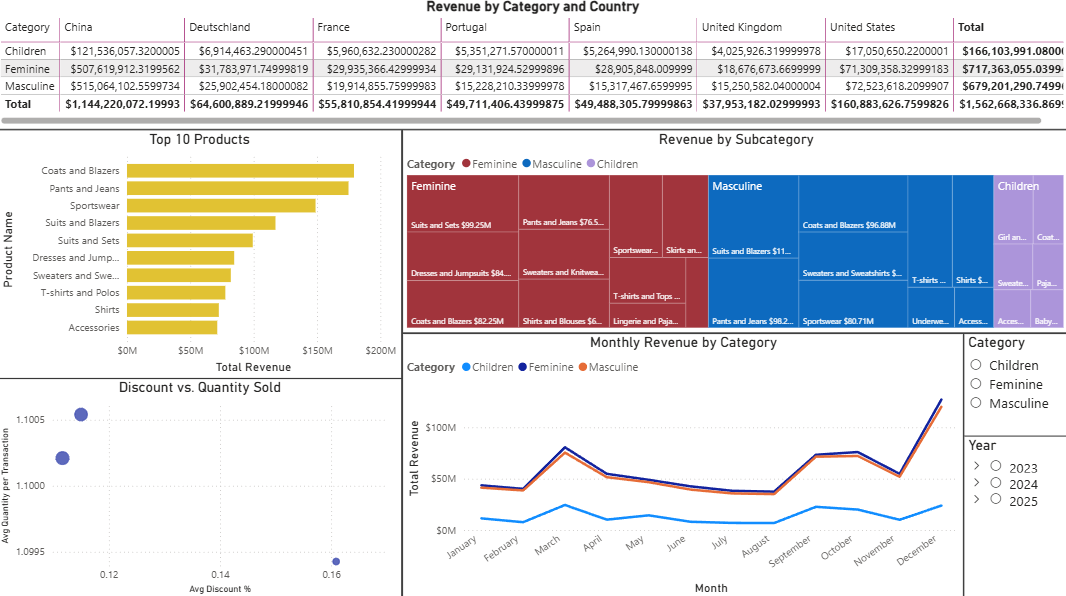

This screenshot's page, from the dashboard's own definition file:
{"tool":"powerbi","page":{"name":"Product Performance","canvas":[1280,720],"ordinal":2},"visuals":[{"type":"pivotTable","title":"Revenue by Category and Country","fields":{"Rows":["products.Category"],"Columns":["customers.Country"],"Values":["customers.Total Revenue"]},"box":[0,0,1280.5,158.4],"z":0},{"type":"barChart","title":"Top 10 Products","fields":{"Category":["products.Sub Category"],"Y":["customers.Total Revenue"]},"box":[0,158.4,484.4,297.4],"z":1},{"type":"treemap","title":"Revenue by Subcategory","fields":{"Group":["products.Category"],"Details":["products.Product Name"],"Values":["customers.Total Revenue"]},"box":[484.4,158.4,796.1,242.9],"z":2},{"type":"scatterChart","title":"Discount vs. Quantity Sold","fields":{"X":["transactions.Avg Discount %"],"Y":["transactions.Avg Quantity per Transaction"],"Size":["customers.Total Revenue"],"Category":["products.Category"]},"box":[0,455.2,485.1,264.2],"z":3},{"type":"listSlicer","fields":{"Values":["products.Category"]},"box":[1155.2,401.5,125.4,217.9],"z":4},{"type":"listSlicer","fields":{"Values":["transactions.Date.Variation.Date Hierarchy.Year","transactions.Date.Variation.Date Hierarchy.Quarter","transactions.Date.Variation.Date Hierarchy.Month","transactions.Date.Variation.Date Hierarchy.Day"]},"box":[1155.2,523.9,125.4,195.5],"z":5},{"type":"lineChart","title":"Monthly Revenue by Category","fields":{"Category":["transactions.Date.Variation.Date Hierarchy.Month"],"Y":["customers.Total Revenue"],"Series":["products.Category"]},"box":[485.1,401.5,670.1,317.9],"z":6}]}

Visuals, with their boxes in screenshot pixels (x1, y1, x2, y2), scaled from the page's 1280x720 canvas onto the 1066x596 screenshot:
"Revenue by Category and Country" pivotTable: (0,0,1065,131)
"Top 10 Products" barChart: (0,131,403,377)
"Revenue by Subcategory" treemap: (403,131,1065,332)
"Discount vs. Quantity Sold" scatterChart: (0,377,404,595)
listSlicer - products.Category: (962,332,1065,513)
listSlicer - transactions.Date.Variation.Date Hierarchy.Year x transactions.Date.Variation.Date Hierarchy.Quarter: (962,434,1065,595)
"Monthly Revenue by Category" lineChart: (404,332,962,595)
